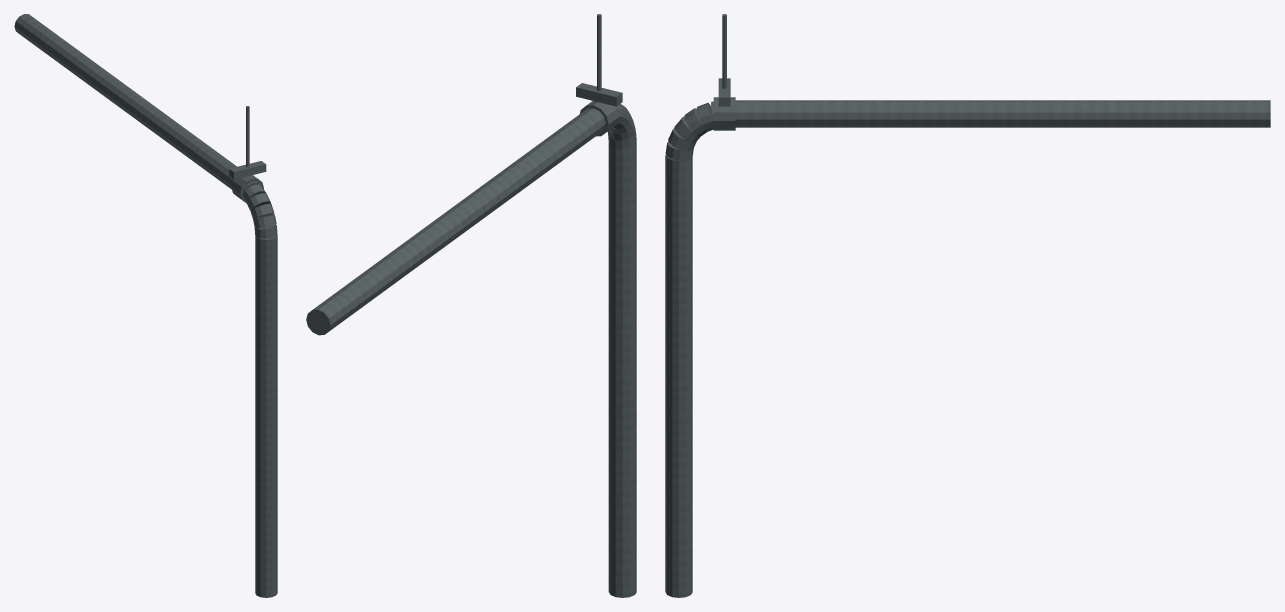
Rendered from pipe-elbow-brackets.glb.
The picture shows the model from 3 angles, left to right: view 1: azimuth 30°, elevation 25°; view 2: azimuth 150°, elevation 25°; view 3: azimuth 270°, elevation 25°; orthographic projection. The views are drawn at different scales.
Parts seen in each view (by area): view 1: Vertical service riser, Service pipe, Pipe bracket, Pipe coupling; view 2: Vertical service riser, Service pipe, Pipe bracket, Pipe coupling; view 3: Service pipe, Vertical service riser.
Part boxes in pixels (x1,y1,x2,y2): Vertical service riser: (255,235,277,597); Service pipe: (14,14,236,189); Pipe bracket: (229,161,266,179); Pipe coupling: (231,175,263,202); Vertical service riser: (608,142,636,597); Service pipe: (306,108,605,335); Pipe bracket: (576,83,622,106); Pipe coupling: (580,101,619,136); Service pipe: (735,100,1270,127); Vertical service riser: (665,155,692,597).
Bounding box in the file's own units: 0.25 × 3.5 × 3.33.
1 material, 1 textured.
